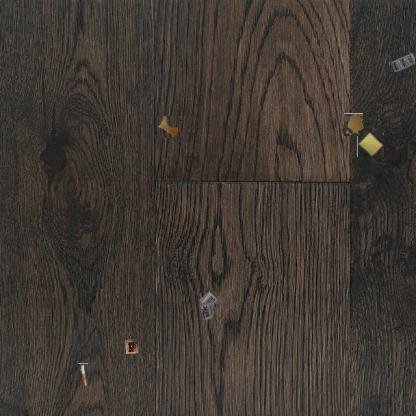dirty: (358, 131, 384, 158), (200, 290, 220, 320), (389, 52, 415, 72), (122, 335, 140, 355), (78, 363, 89, 386)
liquid: (156, 116, 180, 139), (343, 114, 364, 135)
